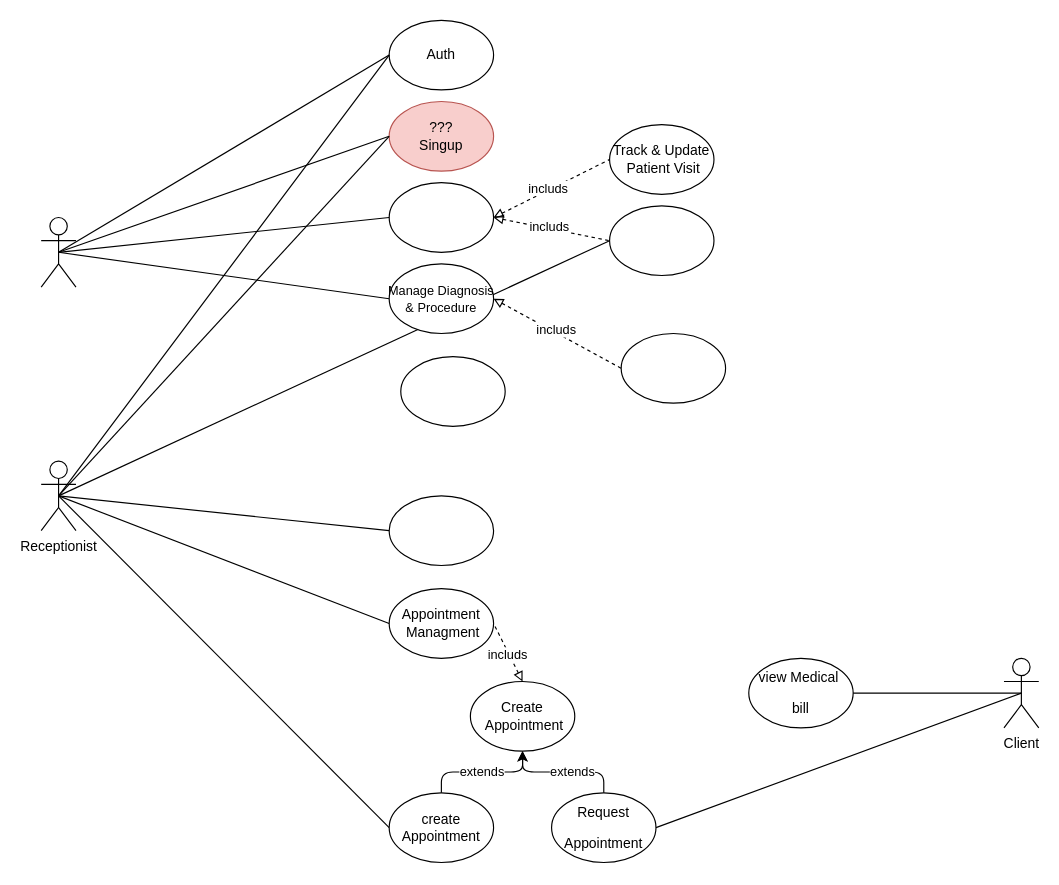
This 1059x885 diagram has some shape labels left out. The shapes that lost their labels are listed below. From the top down, each one's centre as x and y in pixels, then its label:
At pixel 441 217: "manage patiant profiles".
At pixel 58 251: "Doctor".
At pixel 661 240: "add new pariant".
At pixel 673 367: "Patient Prescriptions".
At pixel 441 530: "witing room managment".
